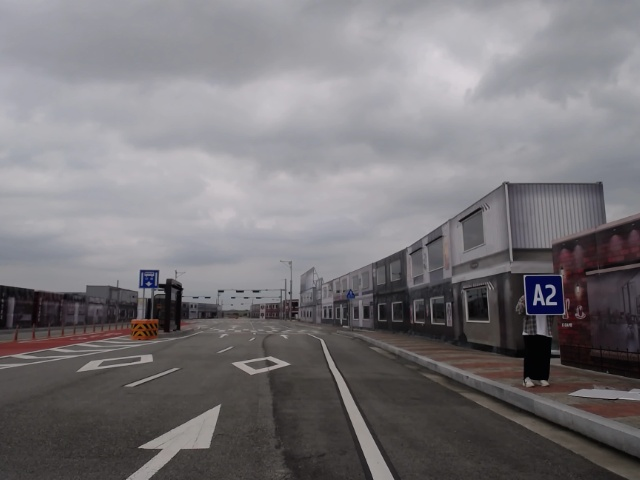delivery_a2: (524, 275, 565, 316)
